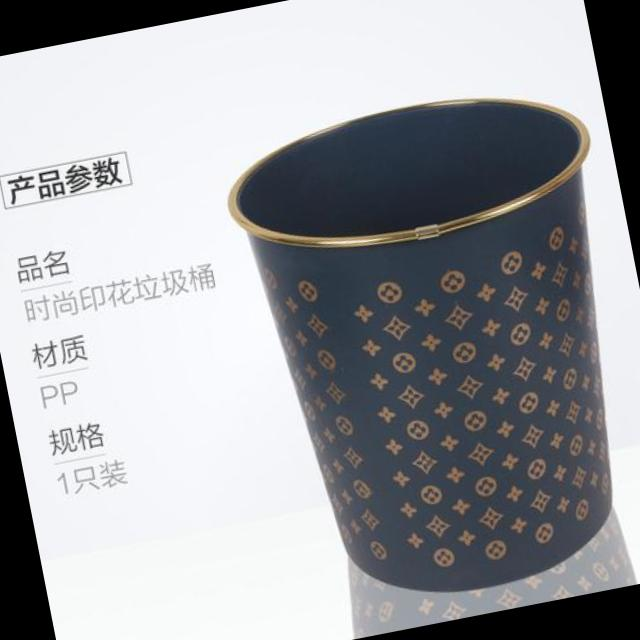dustbin: (210, 63, 640, 626)
